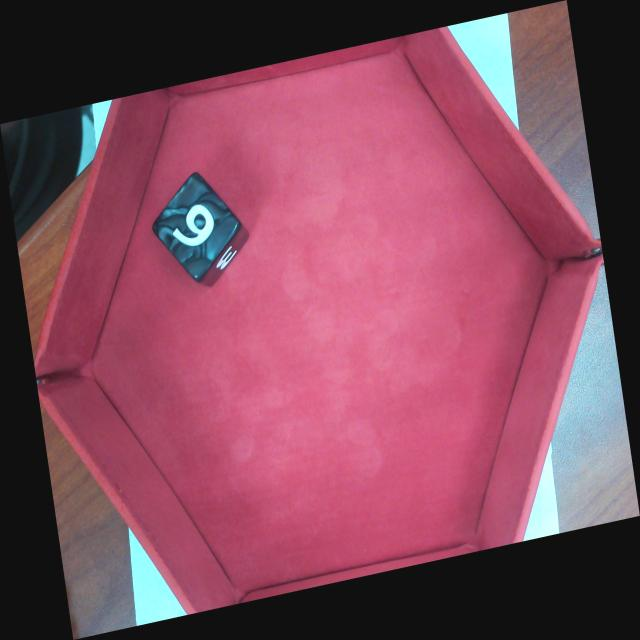dice: (148, 170, 243, 284)
